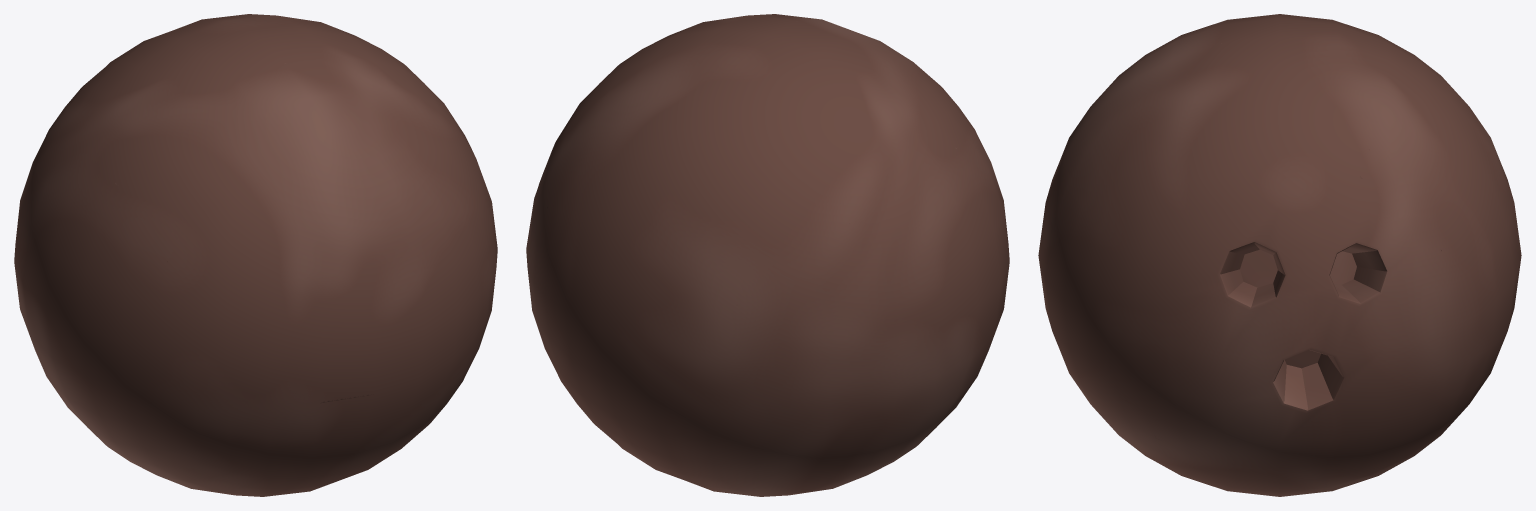
The model's file is Cannonball.fbx.
3 views of the same model, side by side, from view 1: azimuth 30°, elevation 25°; view 2: azimuth 150°, elevation 25°; view 3: azimuth 270°, elevation 25° (orthographic).
Parts seen in each view (by area): view 1: Golden Ball.001; view 2: Golden Ball.001; view 3: Golden Ball.001.
Part boxes in pixels (<box>): Golden Ball.001: <box>14,14,497,496</box>; Golden Ball.001: <box>526,14,1009,496</box>; Golden Ball.001: <box>1038,14,1521,496</box>.
Size of the model in its own units: 64.27 by 64.5 by 64.5.
Materials: 1 (1 with a texture image).
